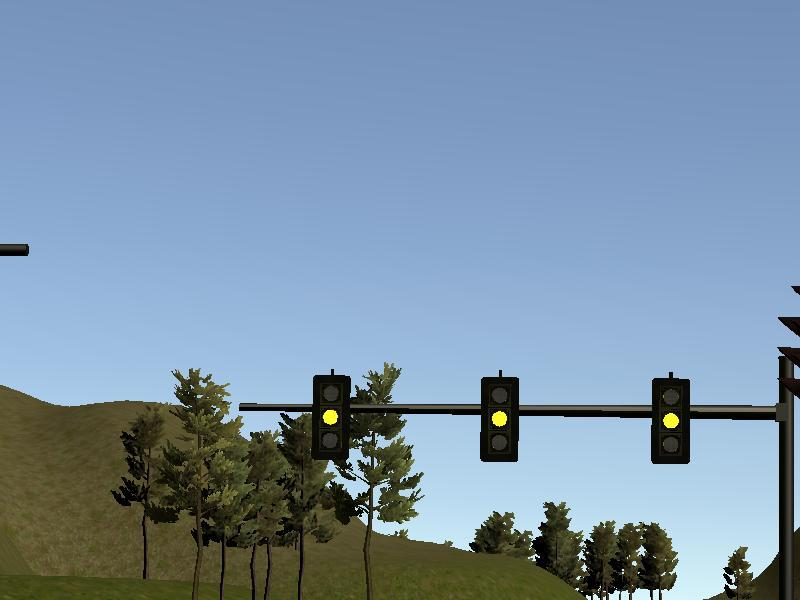Yellow: (651, 379, 690, 464), (313, 375, 351, 460), (481, 377, 518, 463)
